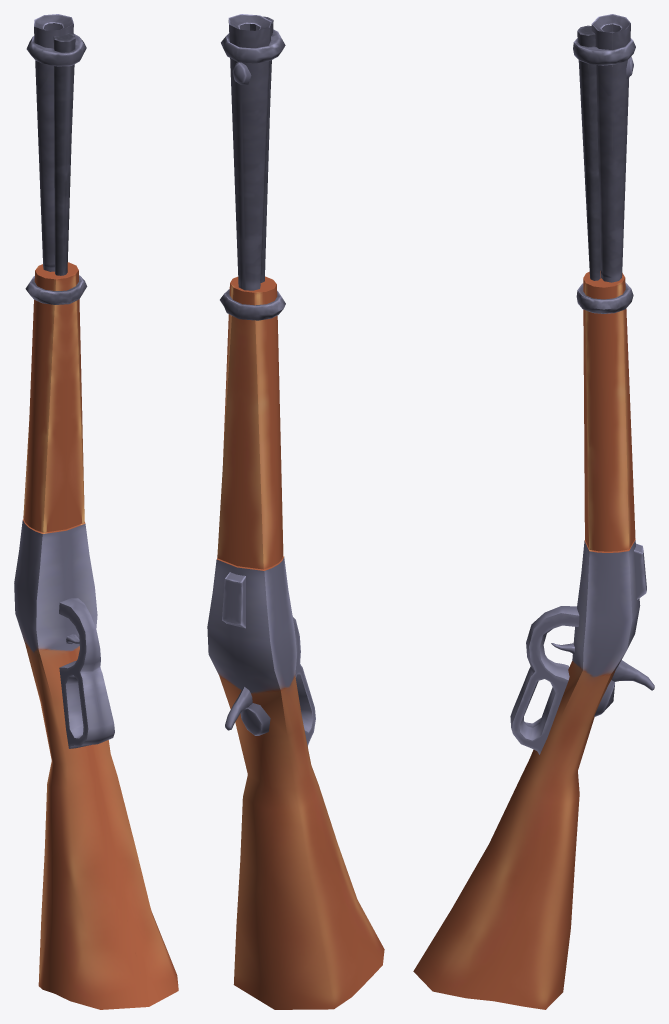
Rendered from CarabineRepeater.fbx.
3 views of the same model, side by side, from view 1: azimuth 30°, elevation 25°; view 2: azimuth 150°, elevation 25°; view 3: azimuth 270°, elevation 25° (orthographic). The views are drawn at different scales.
Parts seen in each view (by area): view 1: CarabineRepeater; view 2: CarabineRepeater; view 3: CarabineRepeater.
Part boxes in pixels (x1,y1,x2,y2): CarabineRepeater: (14, 14, 178, 1009); CarabineRepeater: (207, 14, 384, 1009); CarabineRepeater: (413, 14, 654, 1009).
Size of the model in its own units: 0.1312 by 1.05 by 0.2382.
